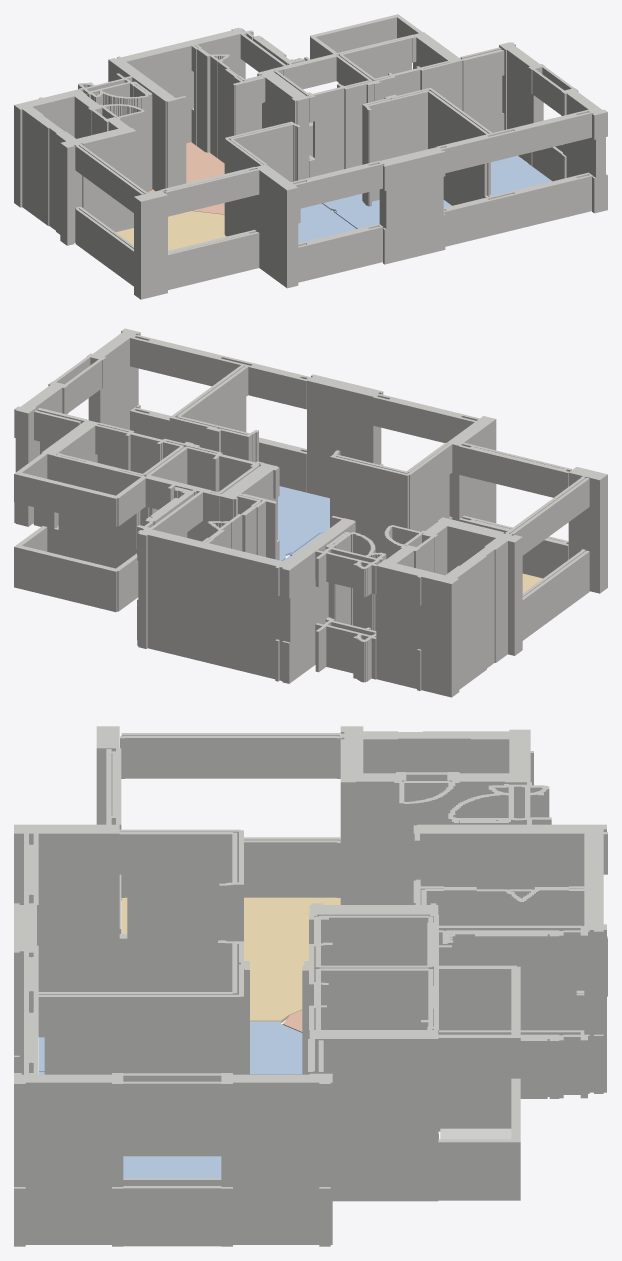
3 views of the same model, one above another, from view 1: azimuth 30°, elevation 25°; view 2: azimuth 150°, elevation 25°; view 3: azimuth 270°, elevation 25° (orthographic). The views are drawn at different scales.
Visible parts, largest first — view 1: walls, room:living:1, room:bedroom:9, room:bedroom:2, room:kitchen:0, room:bedroom:7; view 2: walls, room:bedroom:7; view 3: walls, room:living:1, room:bedroom:2, room:bedroom:9, room:ledge:3.
Part boxes in pixels (left/top/right/bottom): walls: left=14, top=14, right=607, bottom=299; room:living:1: left=116, top=211, right=226, bottom=250; room:bedroom:9: left=491, top=156, right=551, bottom=195; room:bedroom:2: left=298, top=203, right=356, bottom=243; room:kitchen:0: left=148, top=142, right=224, bottom=214; room:bedroom:7: left=322, top=194, right=451, bottom=228; walls: left=14, top=328, right=607, bottom=697; room:bedroom:7: left=278, top=486, right=329, bottom=560; walls: left=14, top=726, right=607, bottom=1246; room:living:1: left=121, top=897, right=340, bottom=1022; room:bedroom:2: left=39, top=1021, right=302, bottom=1074; room:bedroom:9: left=123, top=1156, right=221, bottom=1177; room:ledge:3: left=440, top=1128, right=511, bottom=1139.
Size of the model in its own units: 13.22 by 2.8 by 9.28.
